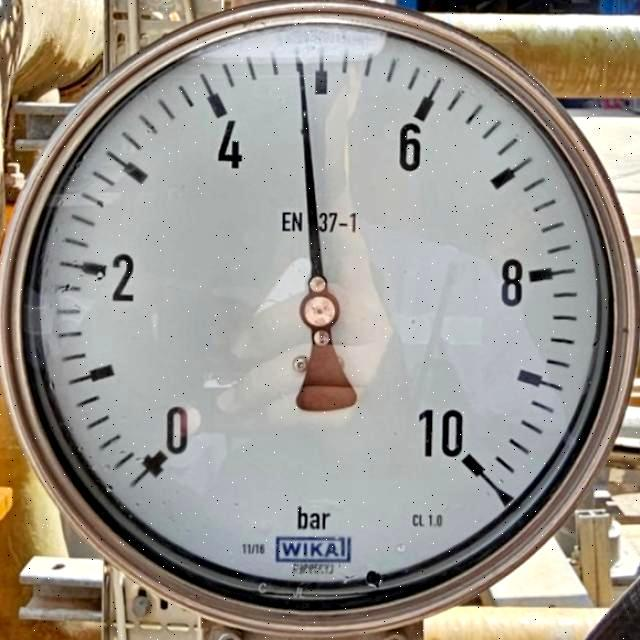Needle_Tip: (265, 39, 336, 106)
Needle_base: (287, 282, 349, 345)
max_value: (402, 403, 494, 462)
min_value: (141, 398, 215, 468)
